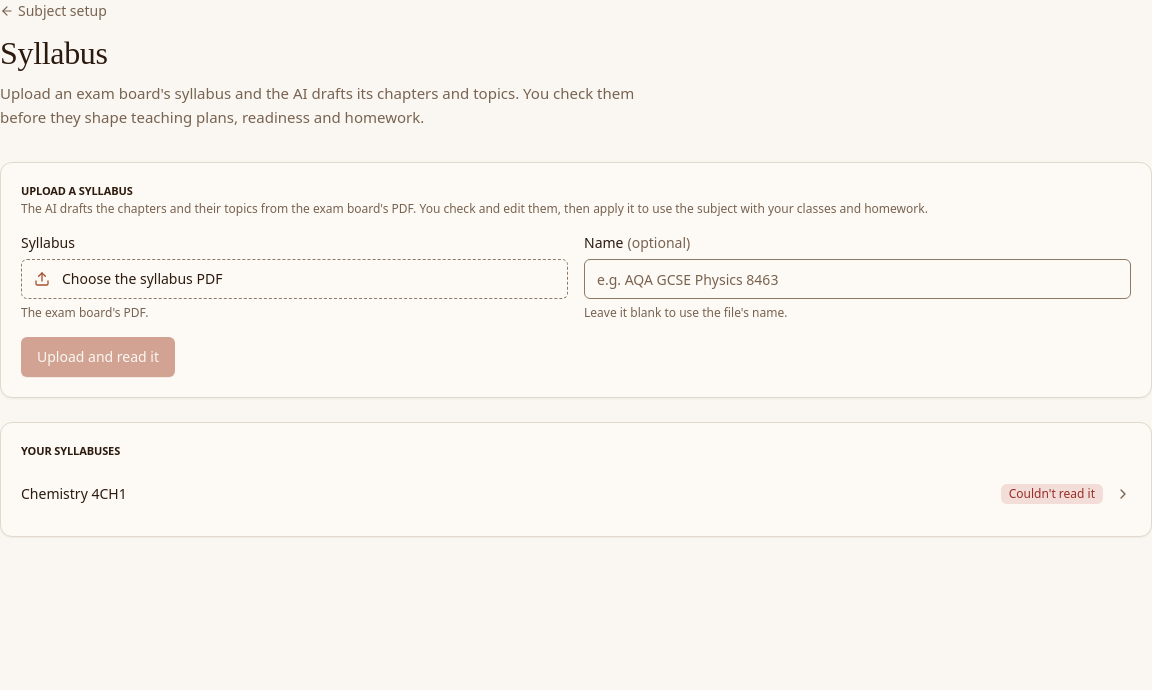
Test: a failed extraction that still has a draft can be applied
Click the text "Chemistry 4CH1" at (74, 493), box [21,484,127,503]
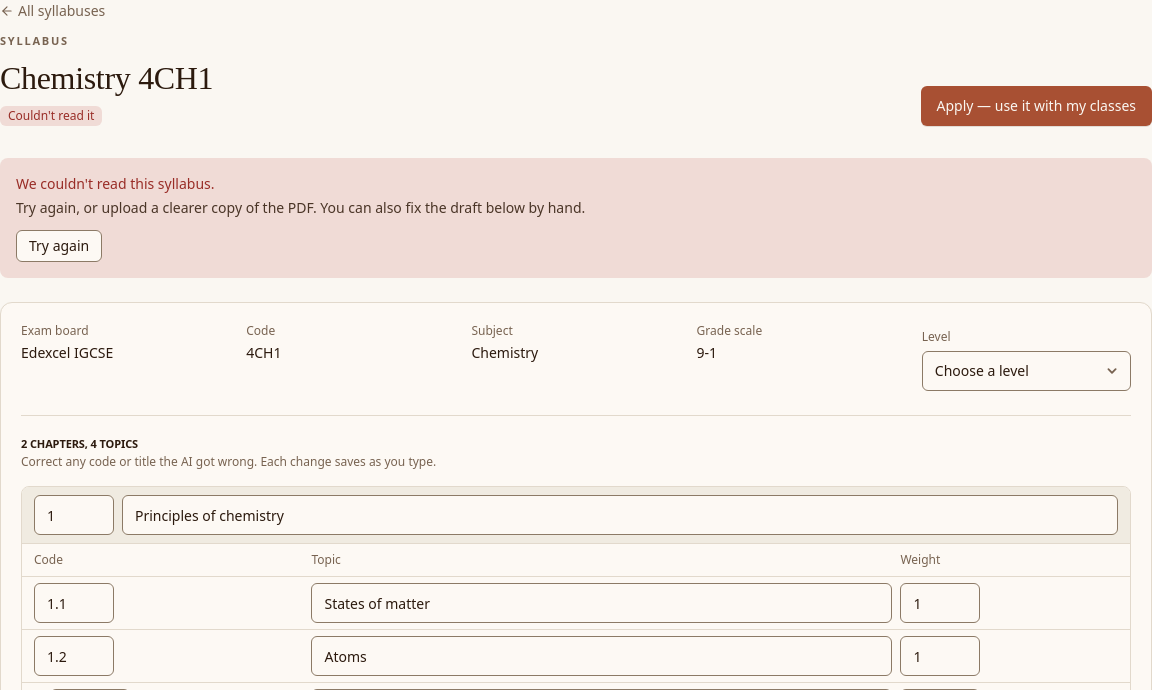
Expected: the heading "2 chapters, 4 topics" is shown, [21,436,138,450]
Expected: the button "Apply — use it with my classes" is shown, [921,86,1151,126]
